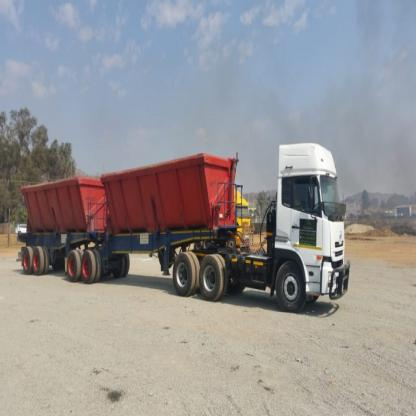dump_truck: (13, 130, 353, 318)
